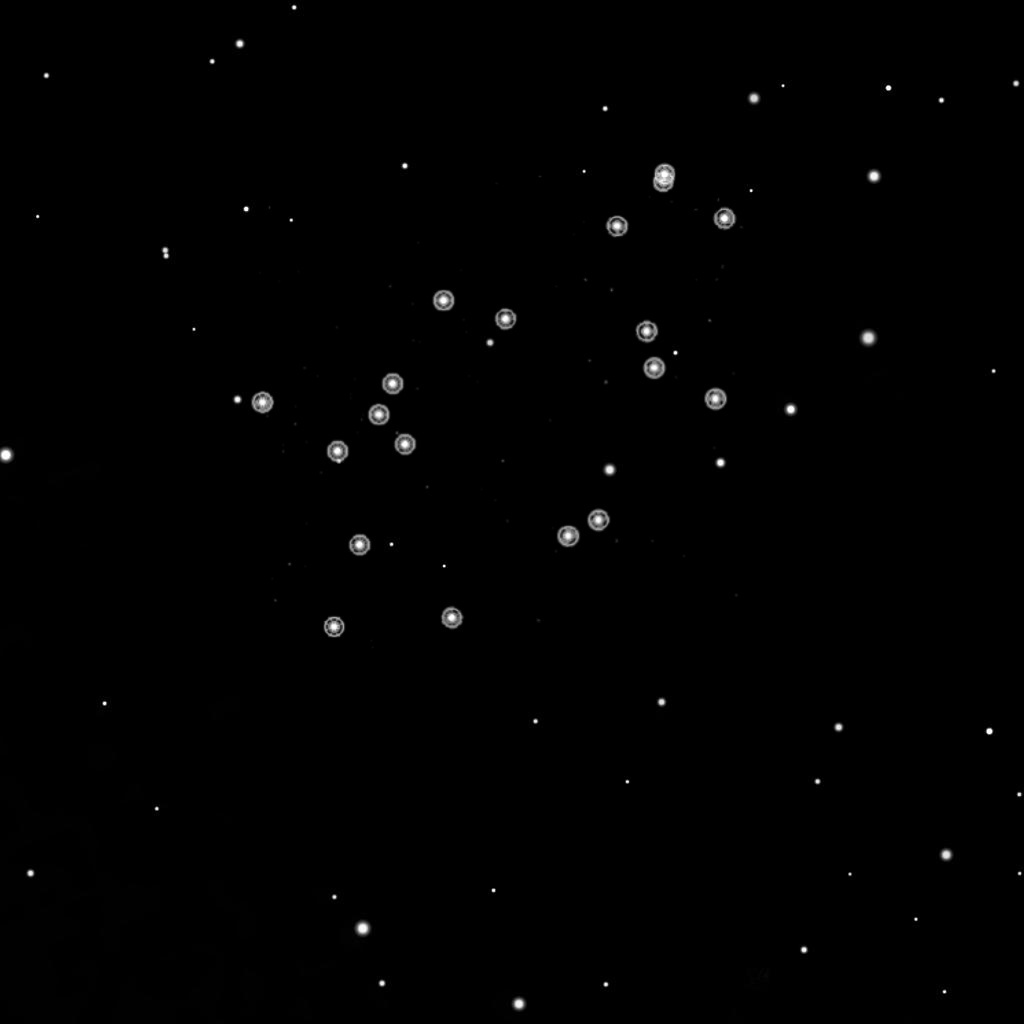canis_major: (318, 285, 527, 471)
